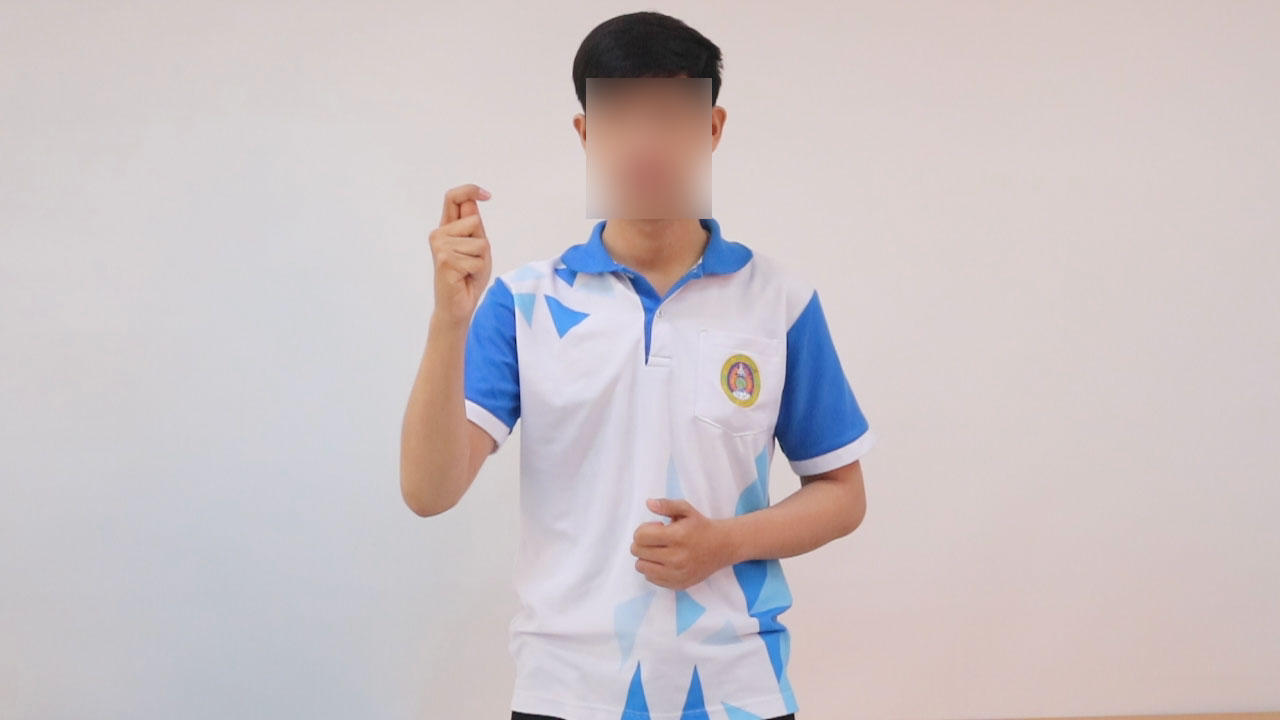or: (427, 171, 499, 332)
